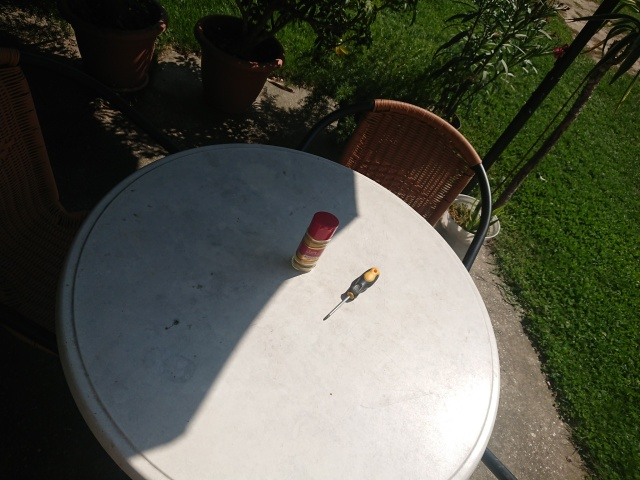Kotanyi Curry Spices Mix 70g: (290, 211, 340, 274)
